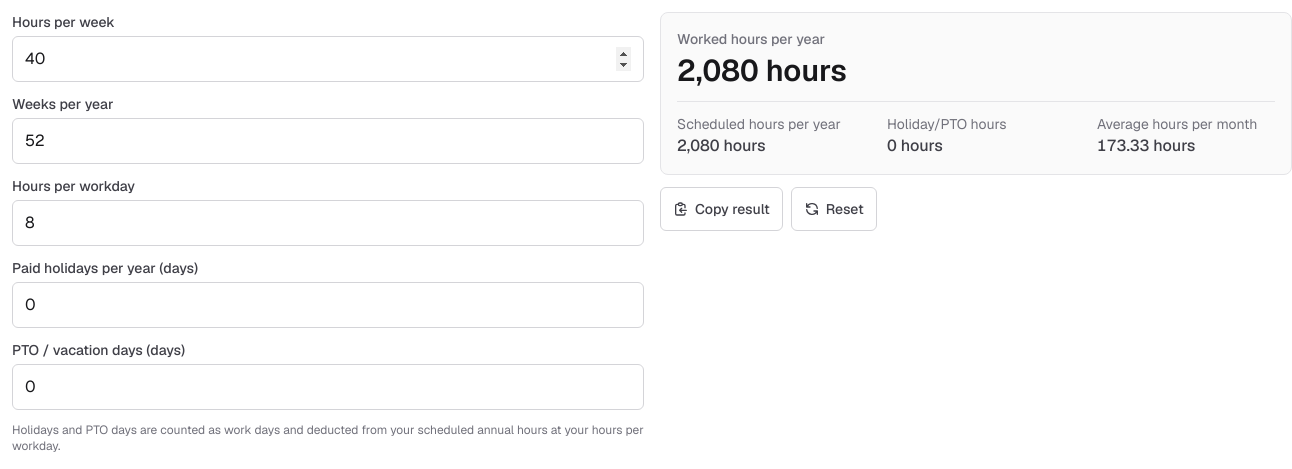
Scenario: WorkHoursInYearCalculator › recalculates when weekly hours change
Replace the text in the number field labelled "Hours per week" with "20": (328, 59) [12,36,644,82]
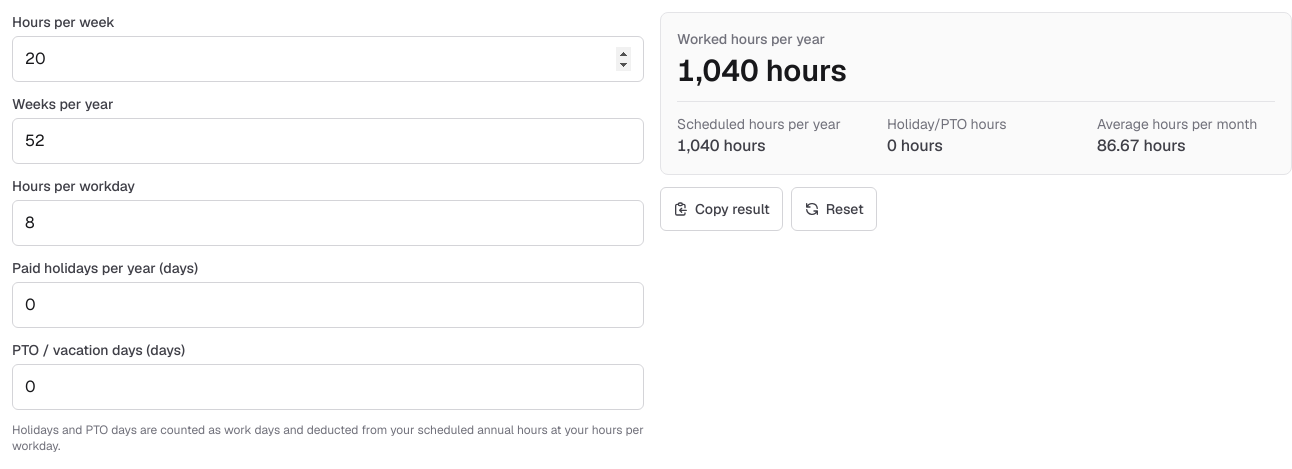
Expected: the element named "Results" shows "1,040 hours", [677,51,847,90]
Expected: the text "173.33 hours" is gone
Expected: the text "86.67 hours" is shown, [1097,135,1186,156]
